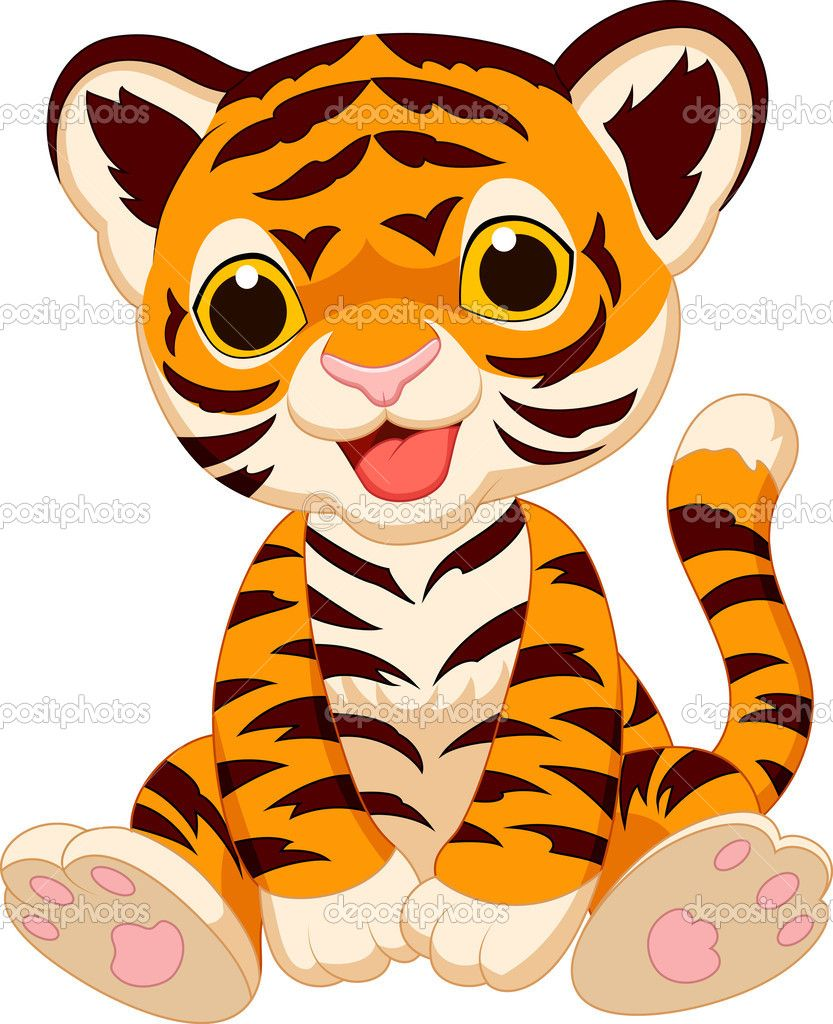Tigrew: (6, 17, 833, 1007)
